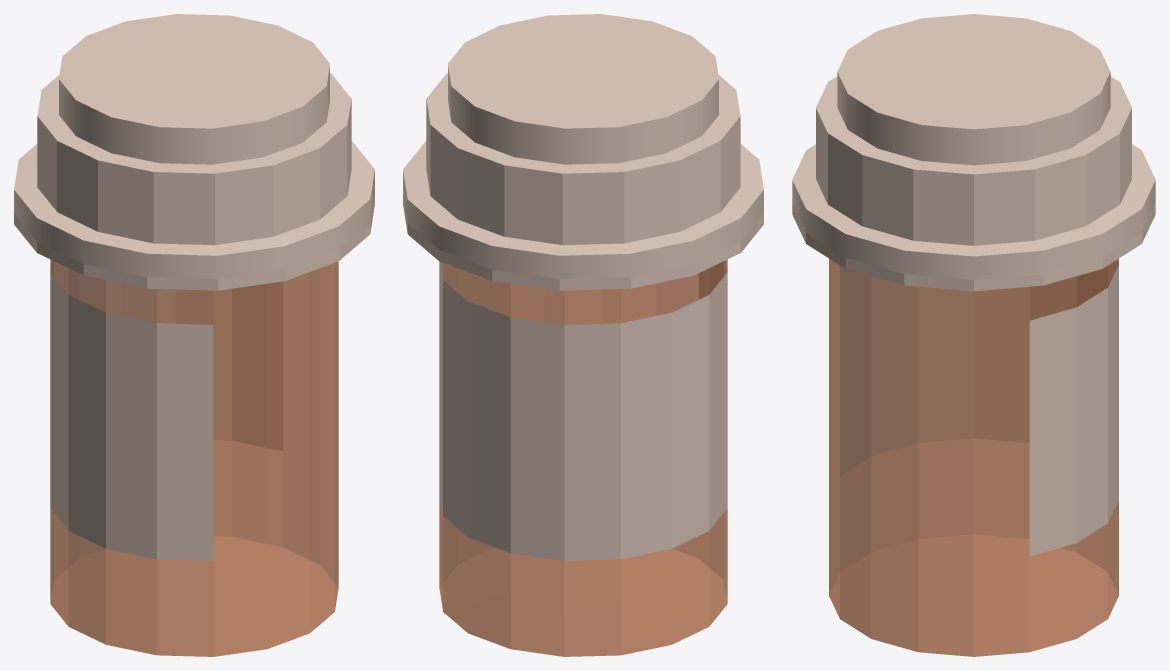
The model's file is pillBottle.fbx.
3 views of the same model, side by side, from view 1: azimuth 30°, elevation 25°; view 2: azimuth 150°, elevation 25°; view 3: azimuth 270°, elevation 25° (orthographic).
Visible parts, largest first — view 1: pCylinder36; view 2: pCylinder36; view 3: pCylinder36.
Part boxes in pixels (x1,y1,x2,y2): pCylinder36: (14, 14, 374, 656); pCylinder36: (403, 14, 763, 656); pCylinder36: (792, 14, 1155, 656).
Size of the model in its own units: 1.89 by 3.01 by 1.89.
